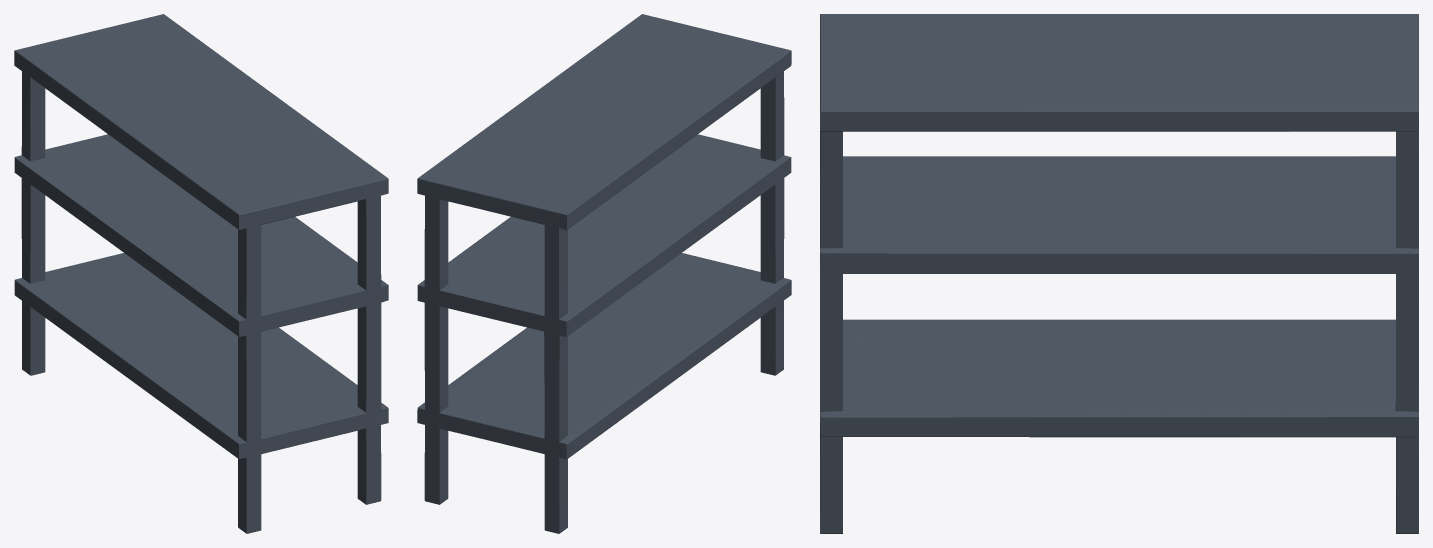
File: metallregal.glb
3 renders of one model, left to right at view 1: azimuth 30°, elevation 25°; view 2: azimuth 150°, elevation 25°; view 3: azimuth 270°, elevation 25°, orthographic. The views are drawn at different scales.
Visible parts, largest first — view 1: 280310_23_05_23_08_02_34_0; view 2: 280310_23_05_23_08_02_34_0; view 3: 280310_23_05_23_08_02_34_0.
Boxes of the visible parts, x1=… form: 280310_23_05_23_08_02_34_0: x1=14, y1=14, x2=388, y2=533; 280310_23_05_23_08_02_34_0: x1=417, y1=14, x2=791, y2=533; 280310_23_05_23_08_02_34_0: x1=820, y1=14, x2=1418, y2=533.
Size of the model in its own units: 4 by 8.2 by 10.4.
Materials: 1 (1 with a texture image).
